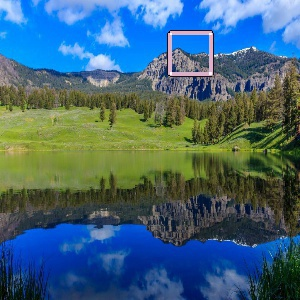square: (166, 28, 214, 78)
